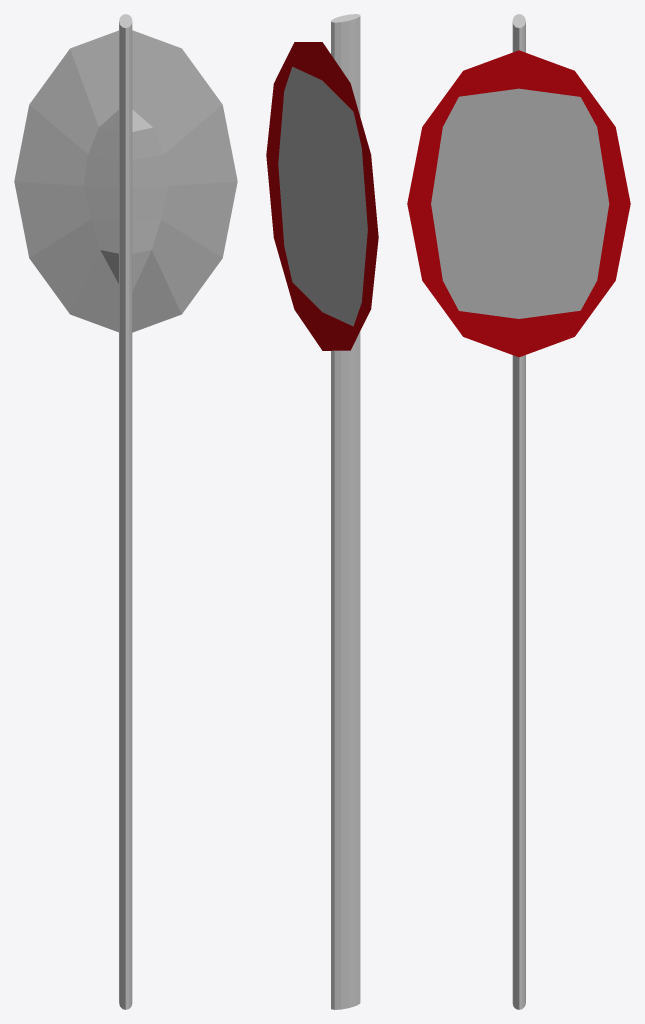
Rendered from Signal.fbx.
3 renders of one model, left to right at view 1: azimuth 90°, elevation 25°; view 2: azimuth 210°, elevation 25°; view 3: azimuth 270°, elevation 25°, orthographic.
Visible parts, largest first — view 1: Señal; view 2: Señal; view 3: Señal.
Boxes of the visible parts, left/top/right/bottom form: Señal: left=14, top=14, right=237, bottom=1009; Señal: left=266, top=14, right=378, bottom=1009; Señal: left=407, top=14, right=630, bottom=1009.
Size of the model in its own units: 0.1 by 2.5 by 0.5158.
